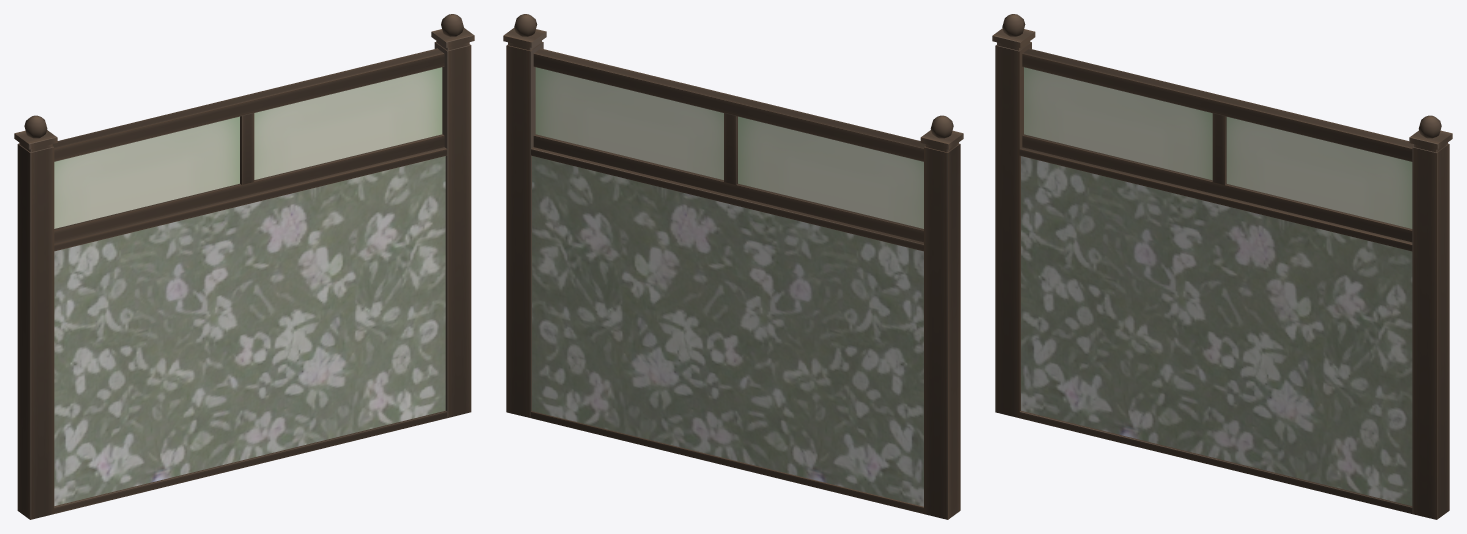
File: tableparti03a.fbx
3 renders of one model, left to right at view 1: azimuth 30°, elevation 25°; view 2: azimuth 150°, elevation 25°; view 3: azimuth 330°, elevation 25°, orthographic.
Parts seen in each view (by area): view 1: tableparti03a; view 2: tableparti03a; view 3: tableparti03a.
Part boxes in pixels (x1,y1,x2,y2): tableparti03a: [14, 14, 474, 519]; tableparti03a: [503, 14, 963, 519]; tableparti03a: [992, 14, 1452, 519].
Size of the model in its own units: 1.87 by 1.59 by 0.1106.
